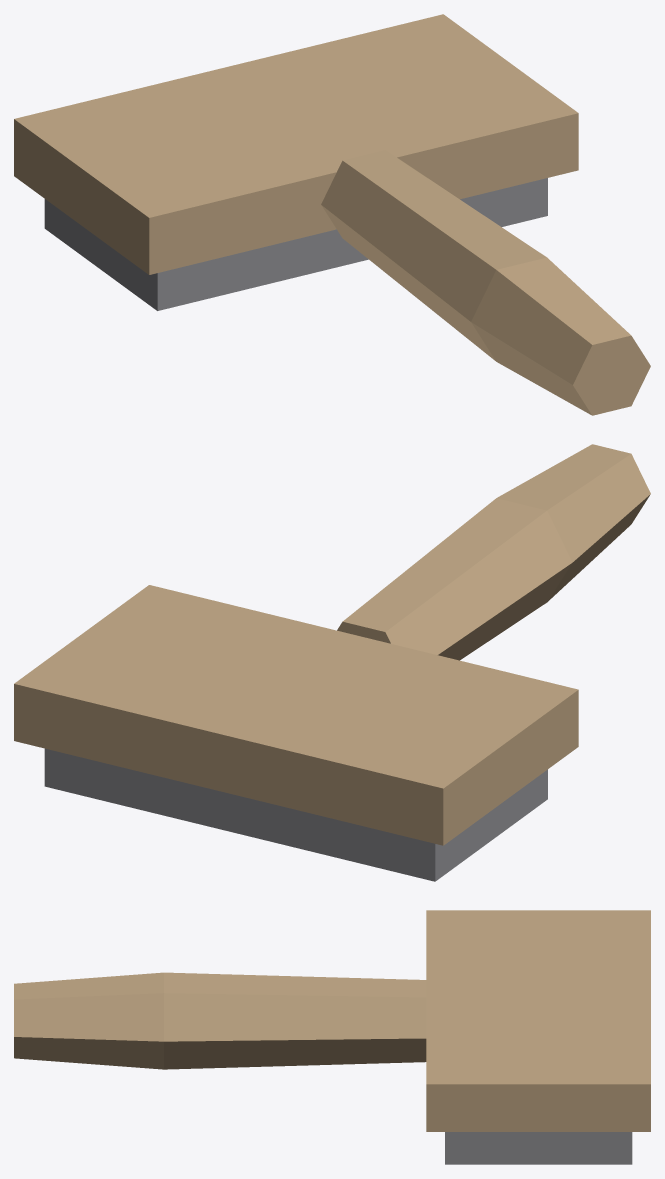
Rendered from prop-carding-brush.fbx.
3 views of the same model, one above another, from view 1: azimuth 30°, elevation 25°; view 2: azimuth 150°, elevation 25°; view 3: azimuth 270°, elevation 25° (orthographic). The views are drawn at different scales.
Parts seen in each view (by area): view 1: prop-carding-brush; view 2: prop-carding-brush; view 3: prop-carding-brush.
Boxes of the visible parts, x1,y1,x2,y2 form: prop-carding-brush: (14,14,650,415); prop-carding-brush: (14,444,650,881); prop-carding-brush: (14,910,650,1164).
Size of the model in its own units: 11 by 3.03 by 17.
